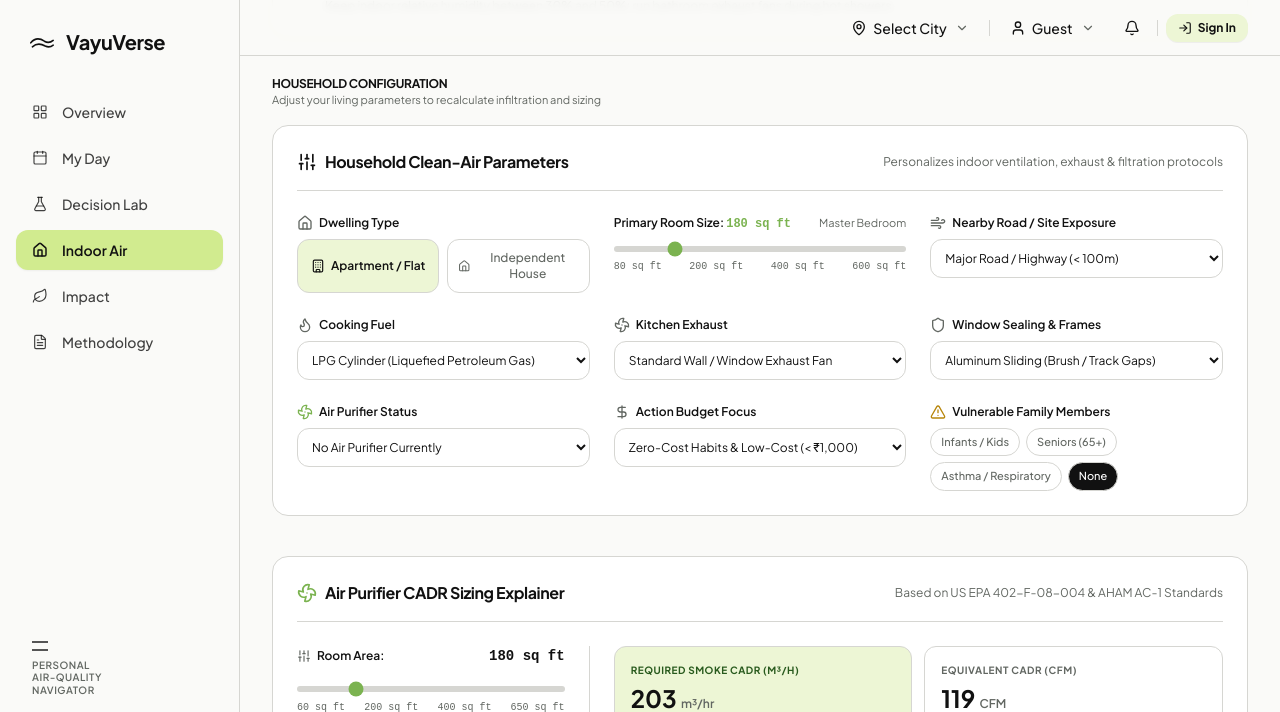
Comprehensive E2E Critical Workflows Audit › updates indoor air recommendations dynamically when home configuration changes
(page scrolled)
Select Cooking Fuel dropdown and switch to Biomass
Select "Biomass / Wood / Chulha / Coal" in the dropdown named "Type of Cooking Fuel" at (443, 360), box [297, 341, 590, 380]
(page scrolled)
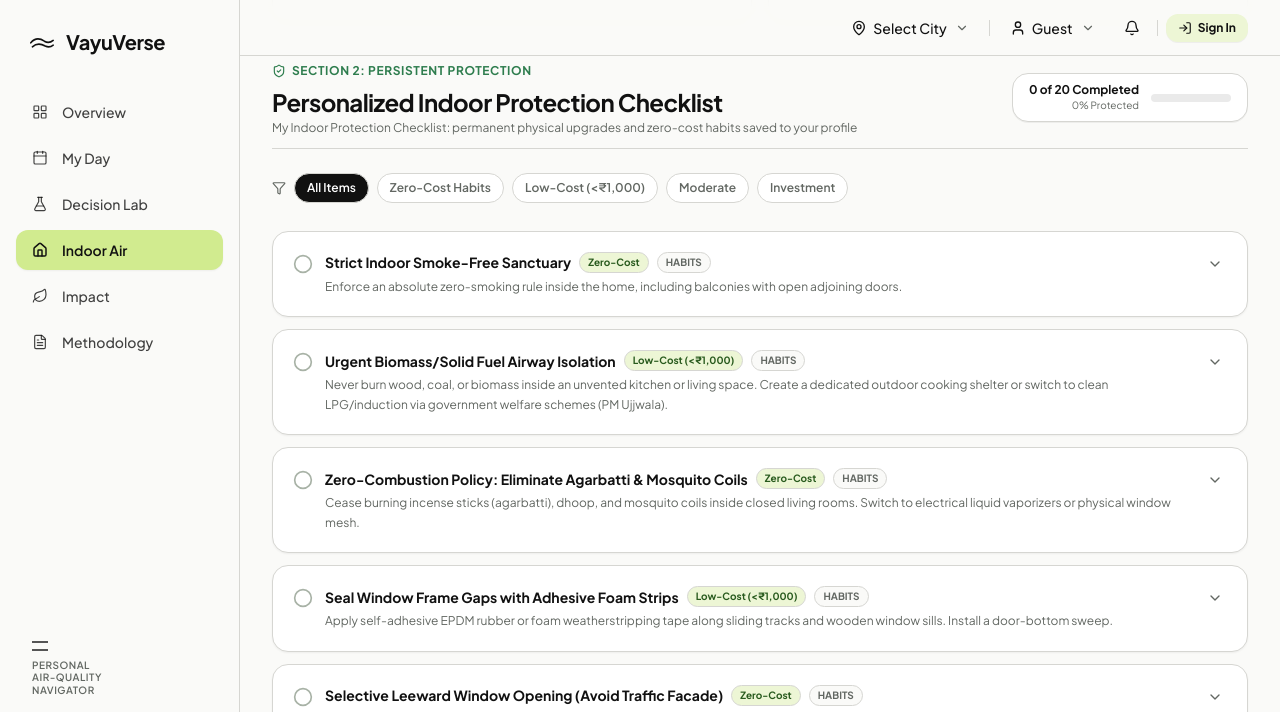
Expected: the text "Urgent Biomass/Solid Fuel Airway Isolation" is shown, [325, 351, 616, 371]
